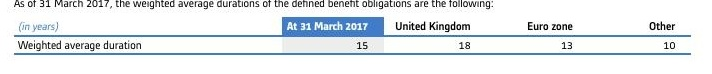table: (0, 0, 712, 74)
